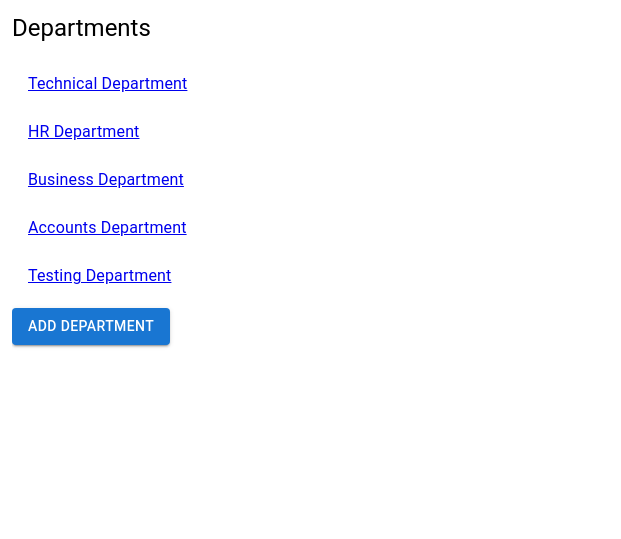
Test: Department Management - Task › shows an error message when adding without manager name
Click the button "Add Department" at (91, 327), box [12,308,170,345]
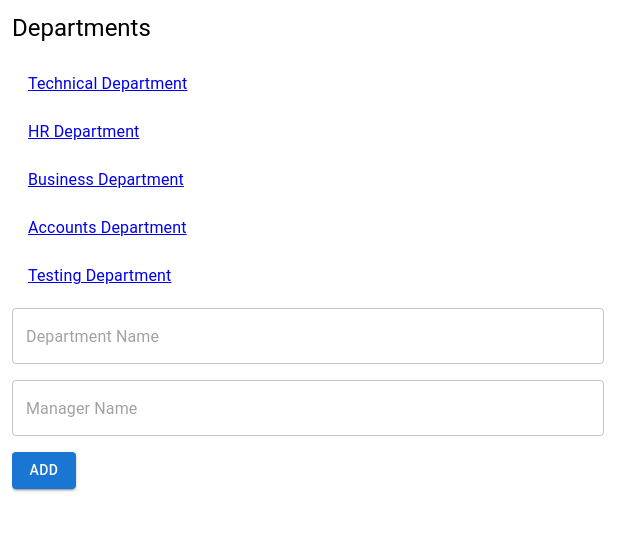
Expected: the field with placeholder "Department Name" is shown
Type "New Department" into the field with placeholder "Department Name" at (308, 336), box [12,308,604,364]
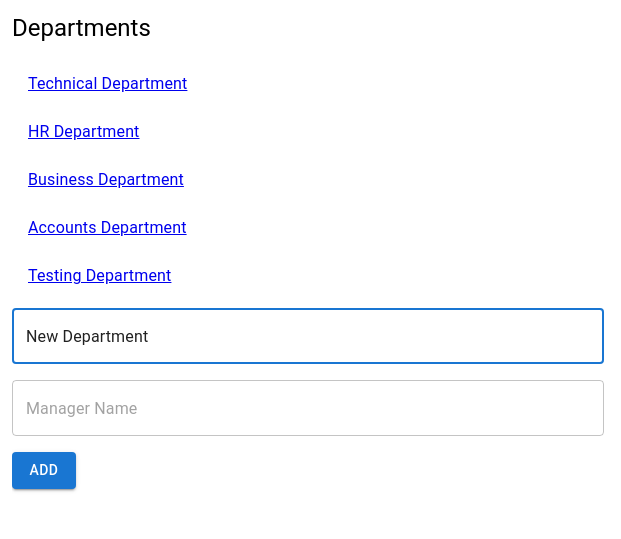
Click the button "Add" at (44, 471), box [12,452,76,489]
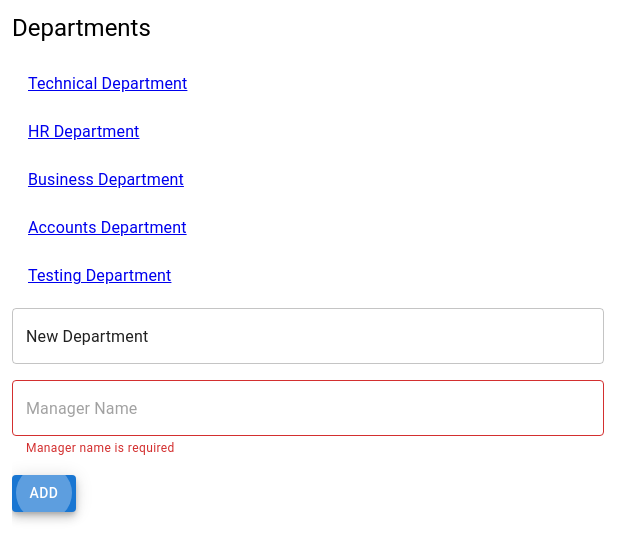
Expected: the text "Manager name is required" is shown, [26,441,175,455]
